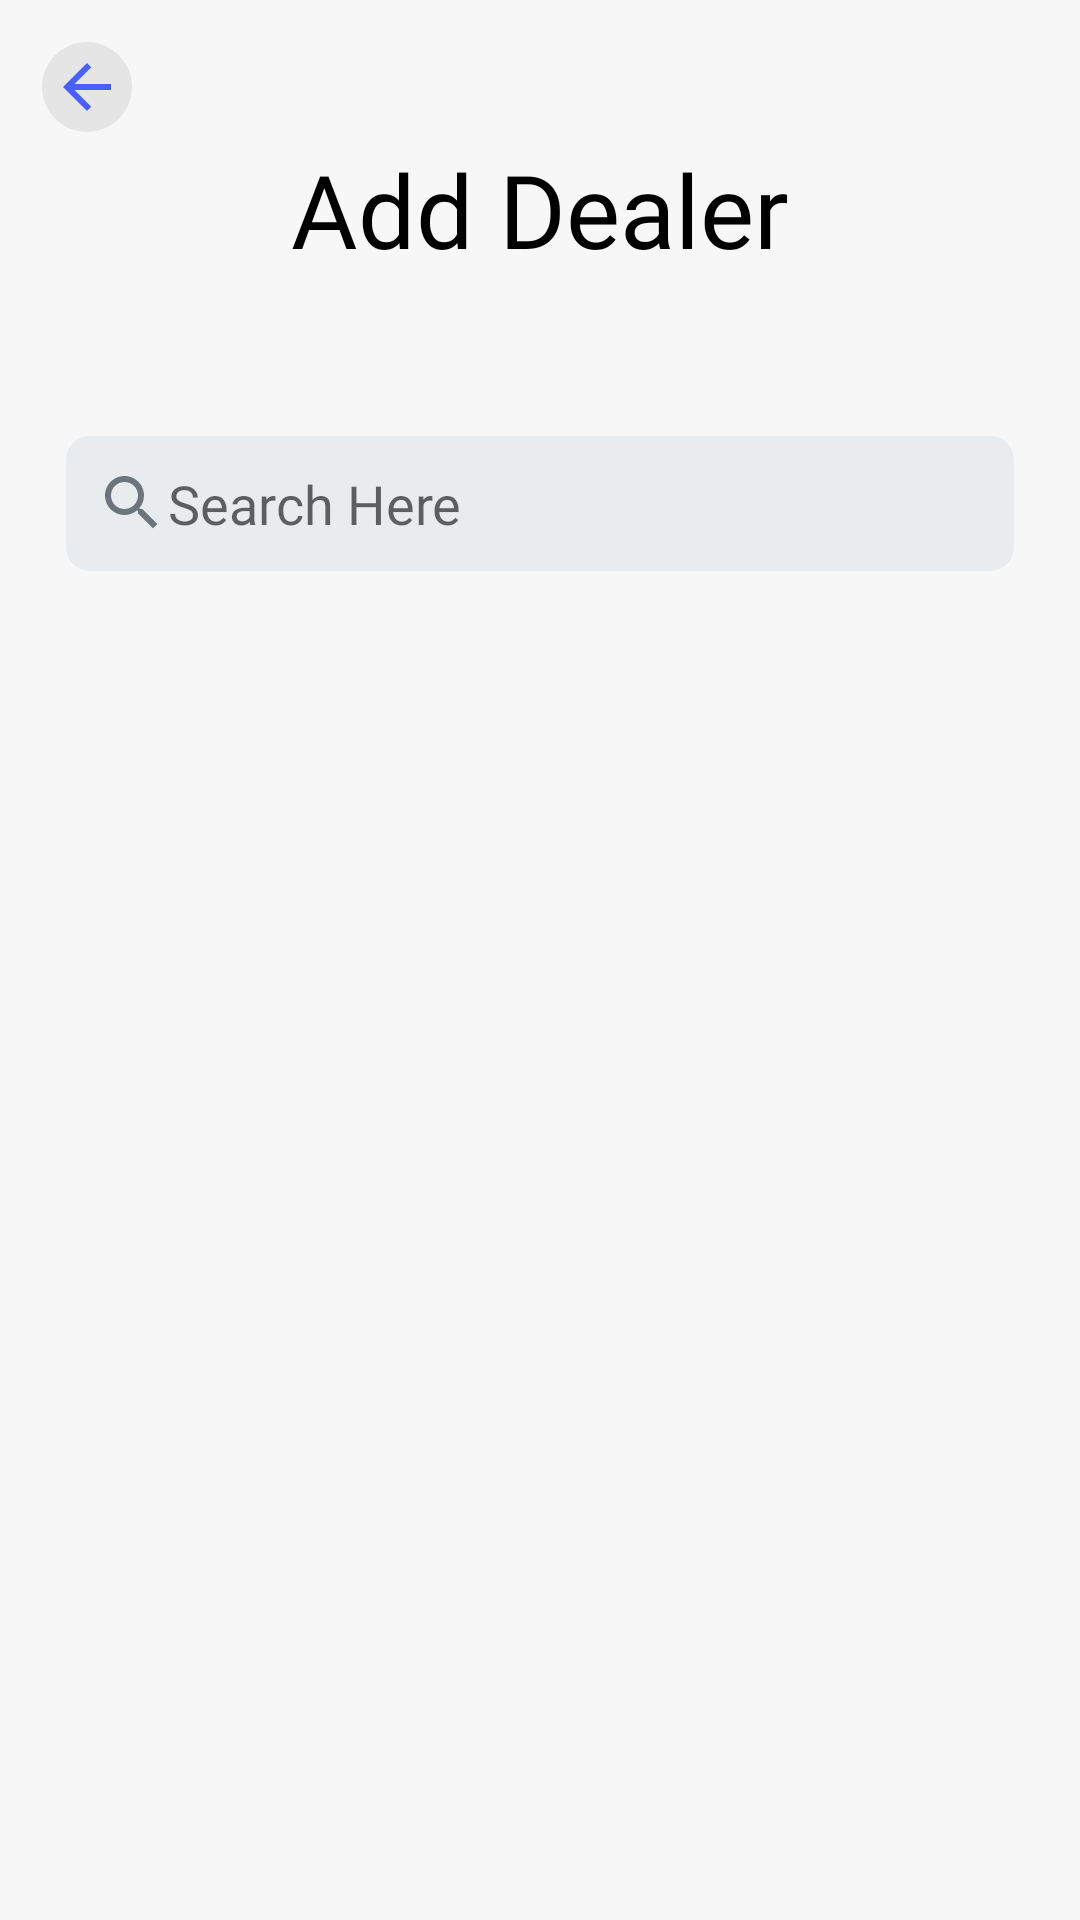

Screen size 1080 x 1920. Icon name, then its box in pixels as bbox=[x1, y1, x2, y2]:
back: bbox=[42, 42, 132, 132]
